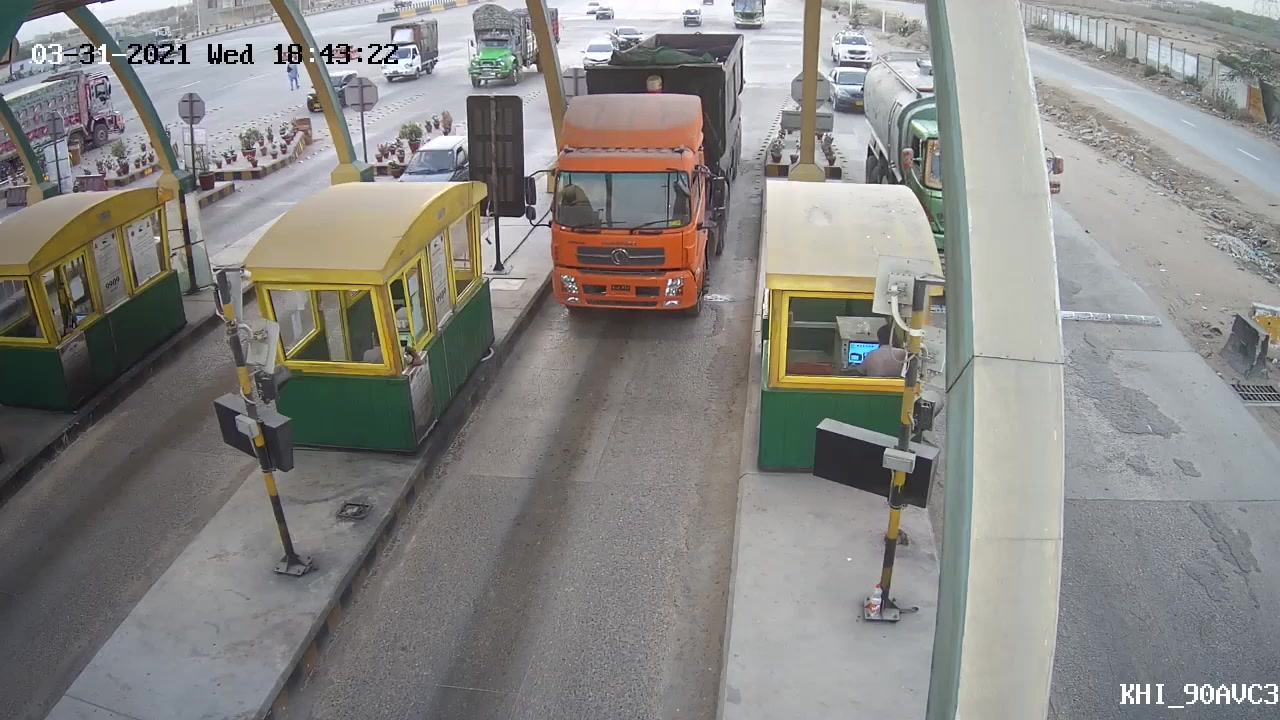F6: (532, 25, 749, 325)
